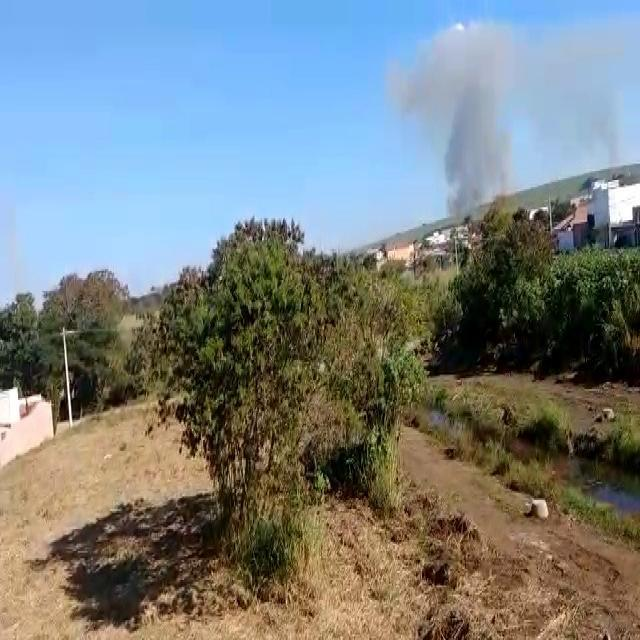Smoke: (404, 8, 640, 198)
